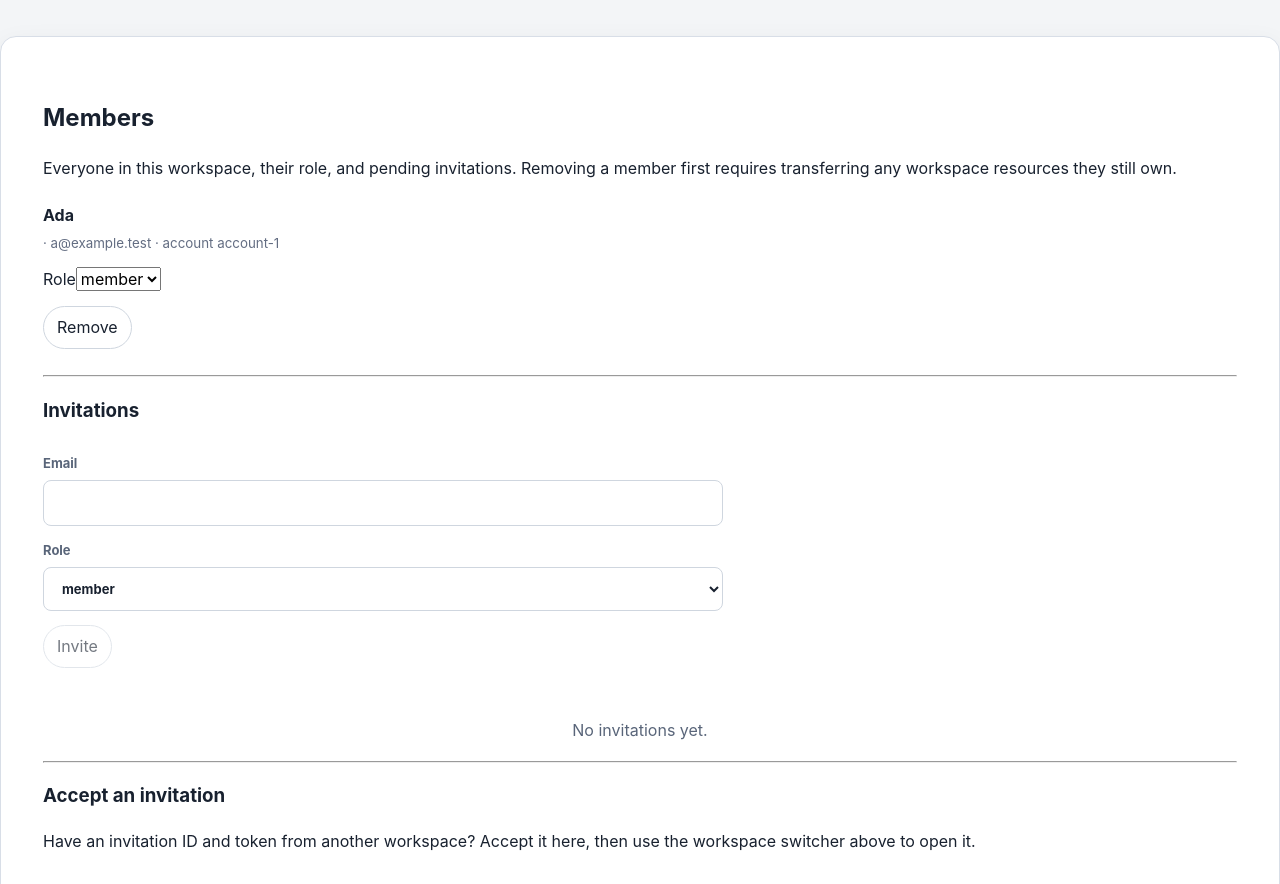
Test case: MembersPanel › explains a refused ownership transfer of email-derived data as private to that member
Expected: the text "Ada" is shown, [43,205,74,225]
Click the button "Remove" at point(87, 327), box [43,306,132,349]
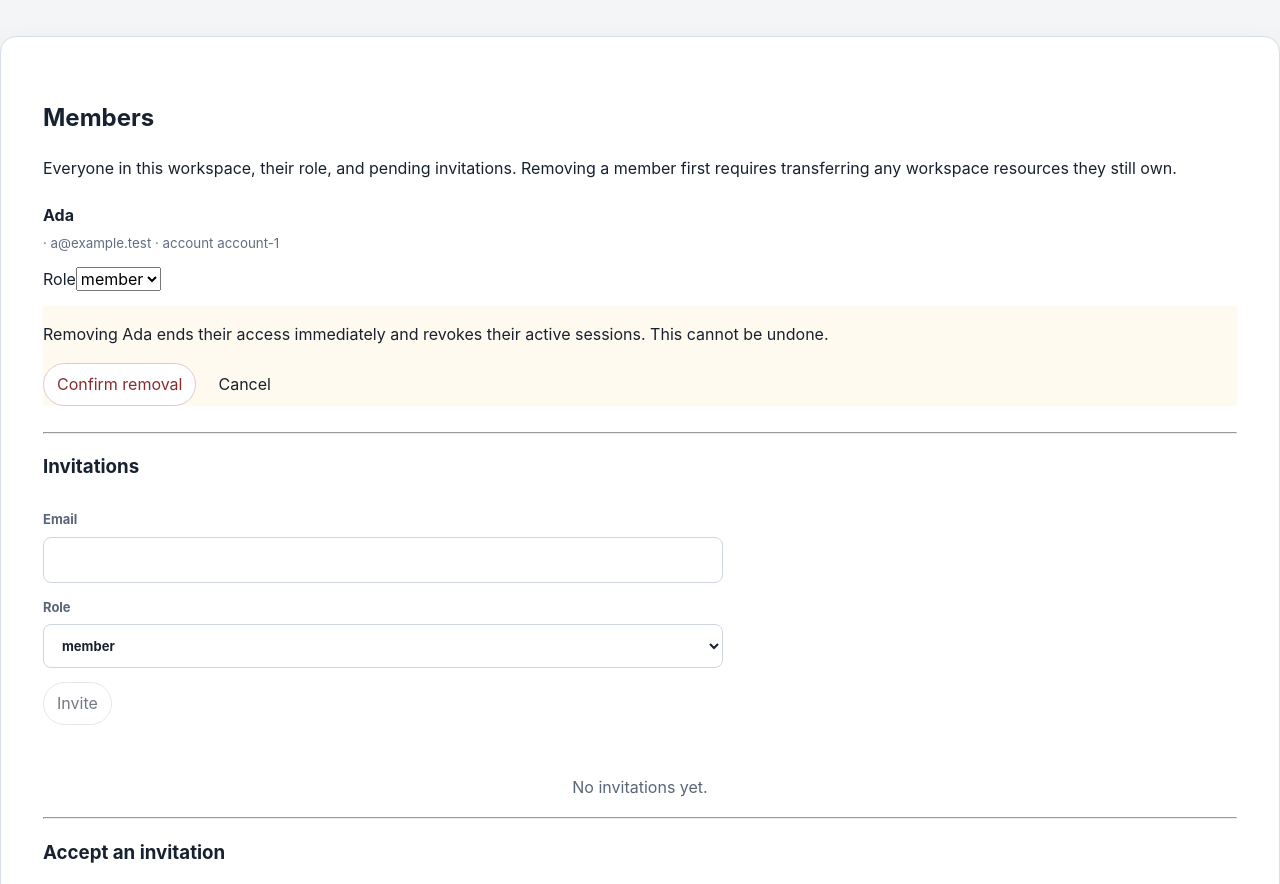
Click the button "Confirm removal" at point(120, 384), box [43,363,196,406]
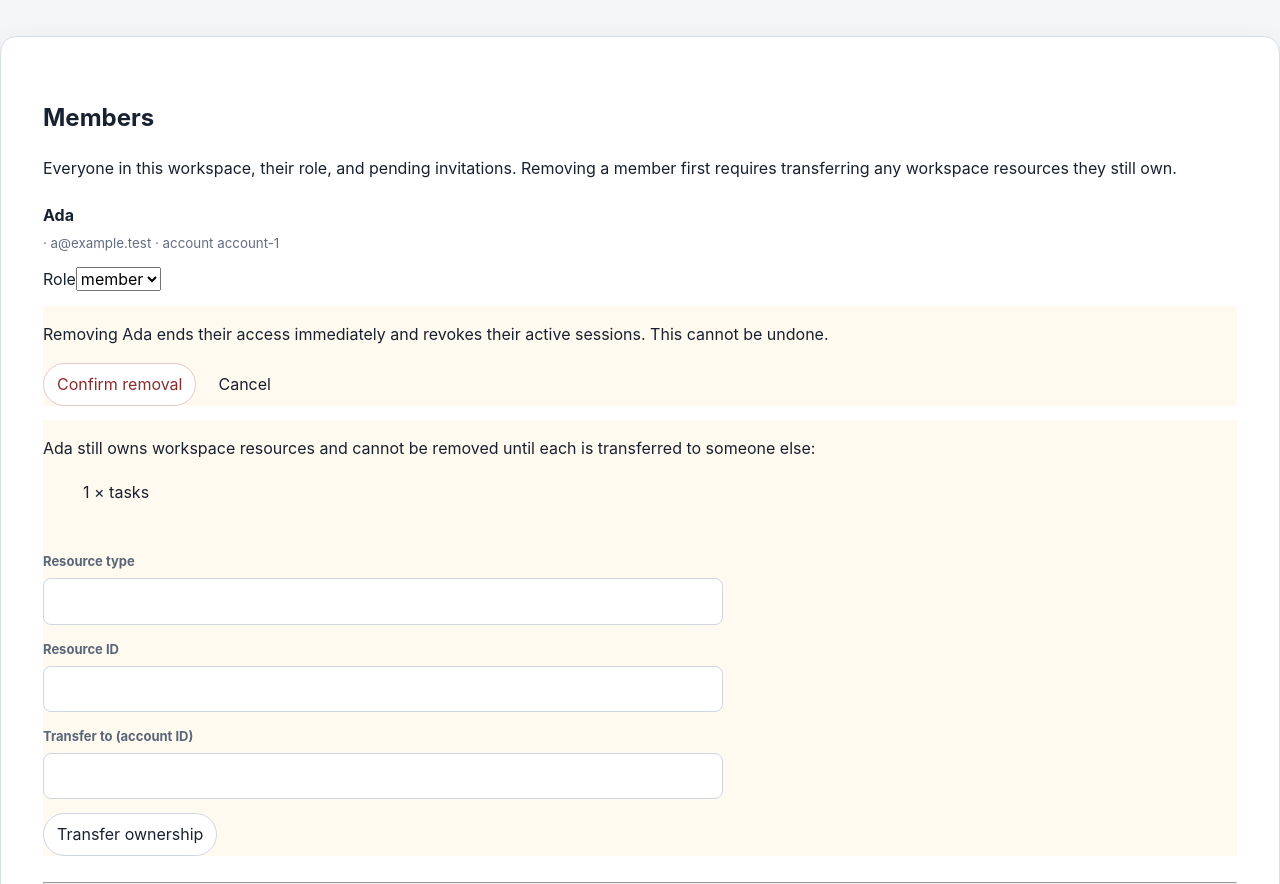
Expected: the list item "1 × tasks" is shown, [83,482,149,502]
Type "tasks" into the field named "Resource type to transfer" at point(383, 601), box [43,578,723,624]
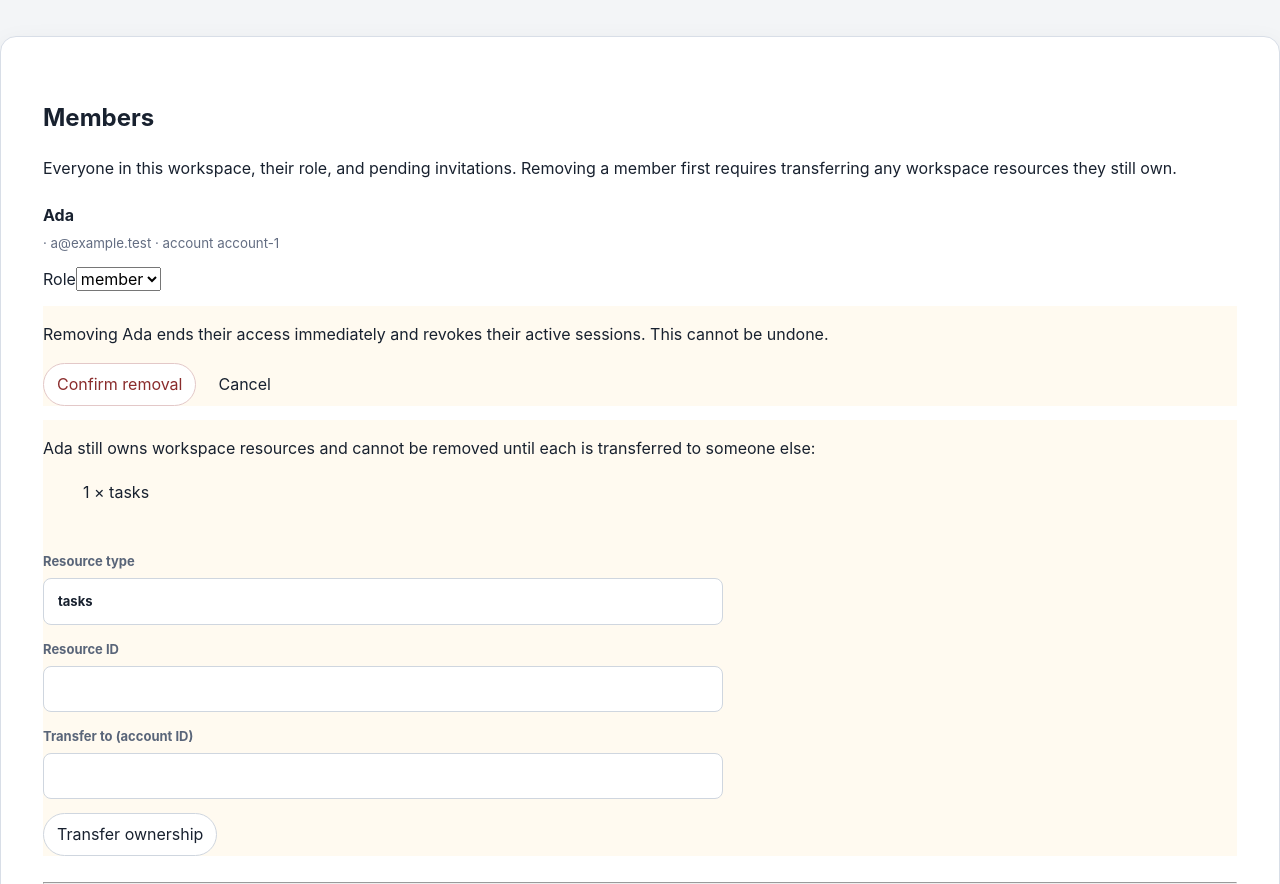
Type "task-1" into the field named "Resource ID to transfer" at point(383, 689), box [43,666,723,712]
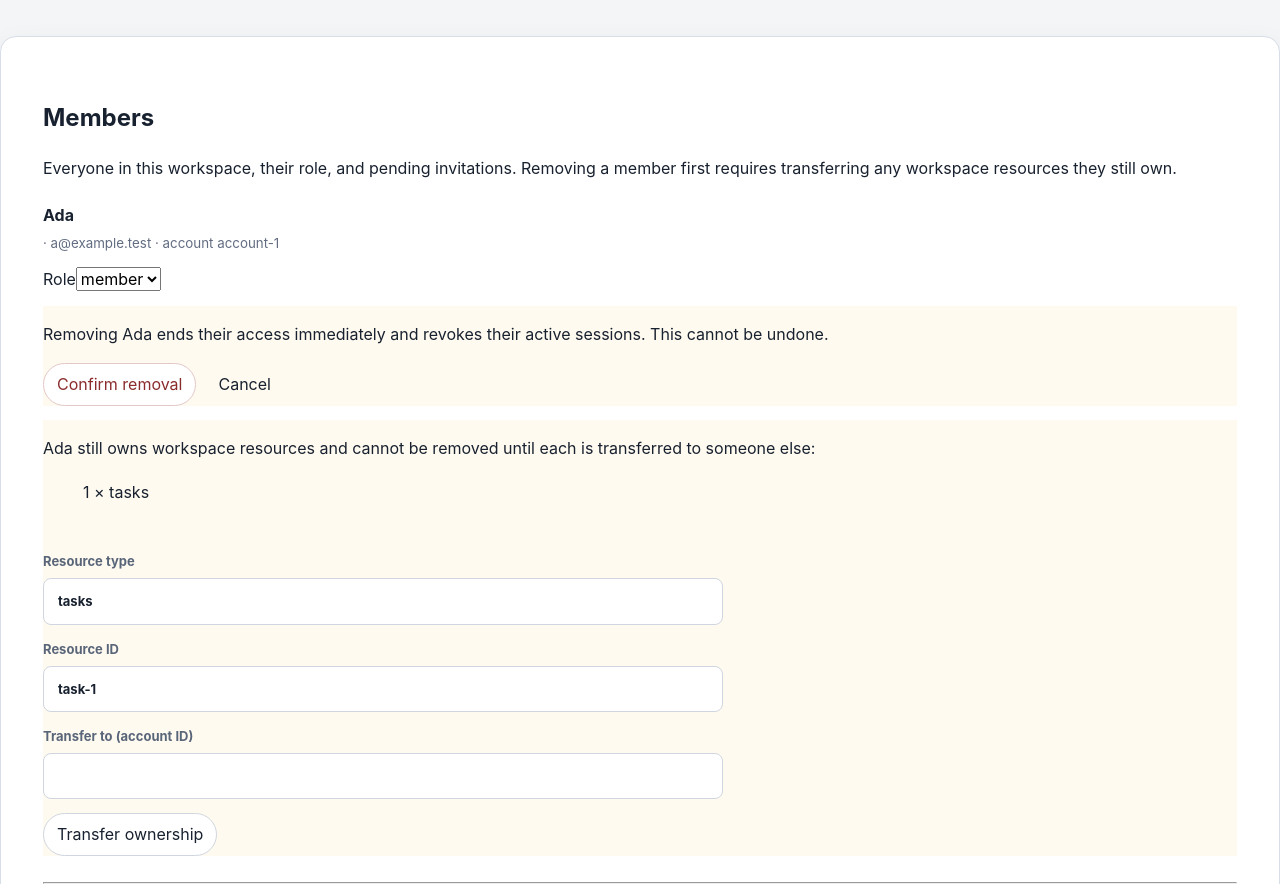
Type "account-2" into the field named "Transfer to account ID" at point(383, 776), box [43,753,723,799]
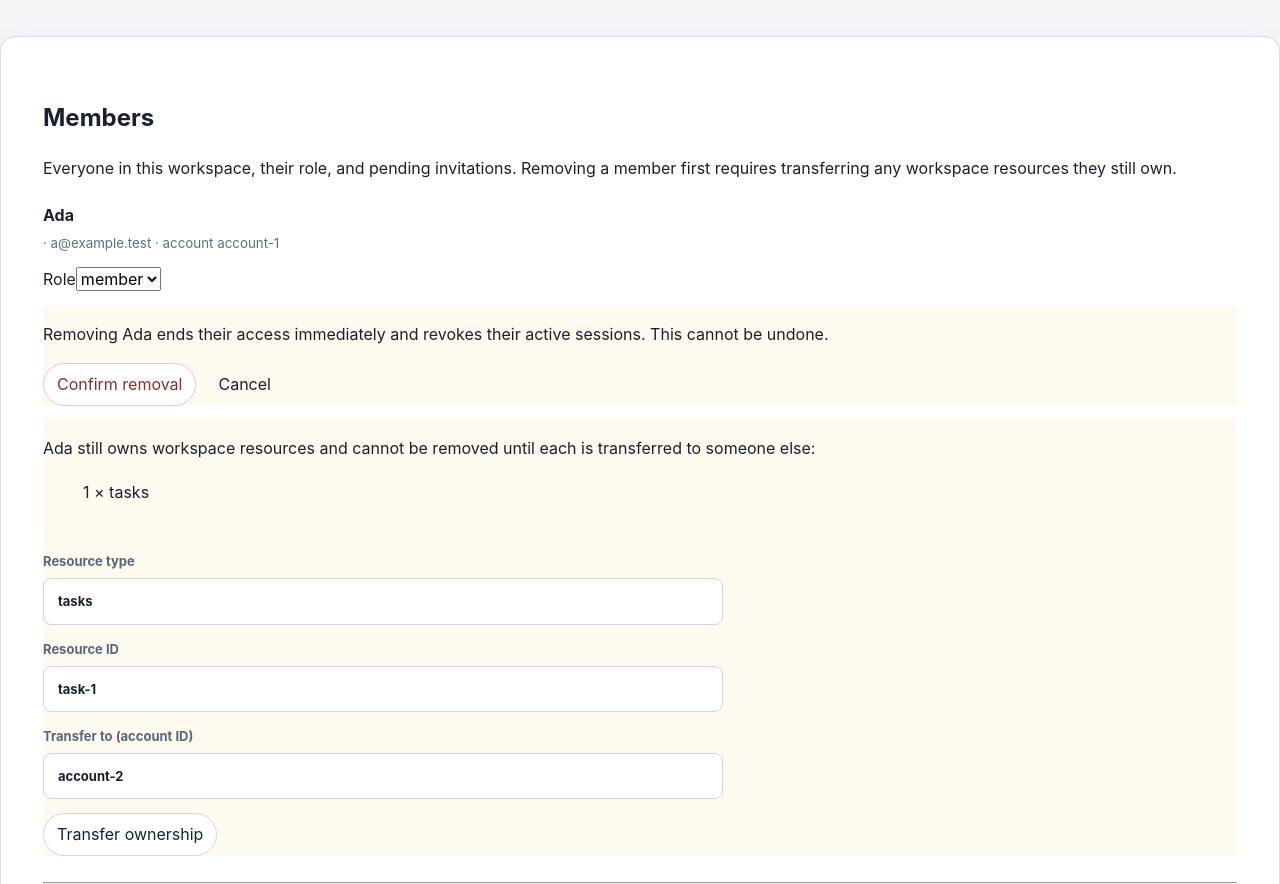
Click the button "Transfer ownership" at point(130, 834), box [43,813,217,856]
(page scrolled)
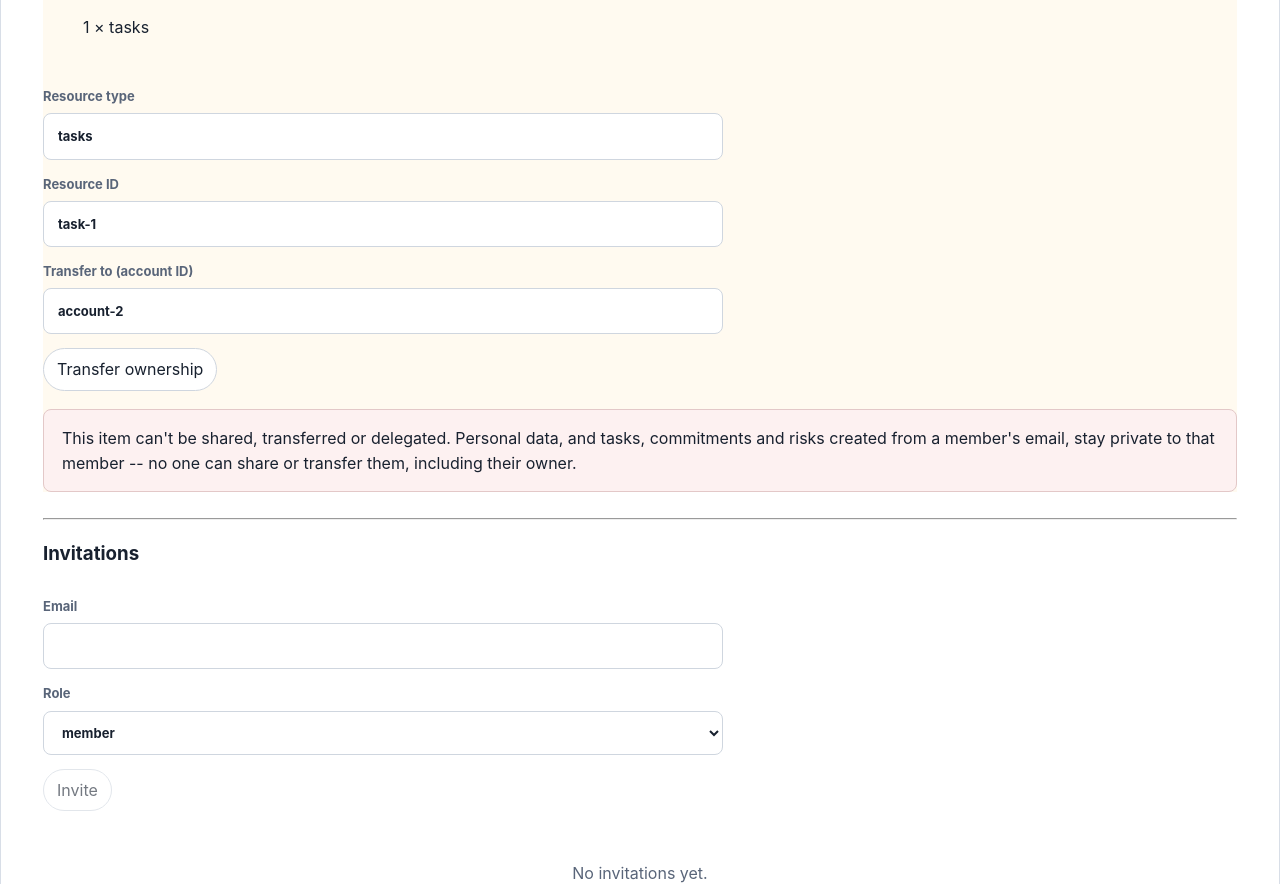
Expected: the text "created from a member's email, stay private to that member -- no one can share or transfer them, including their owner" is shown, [62,428,1215,473]
